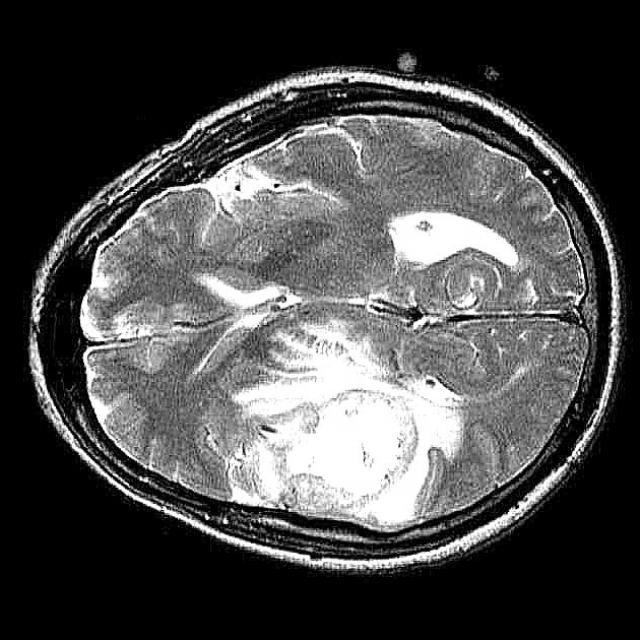tumor: (226, 337, 461, 524)
